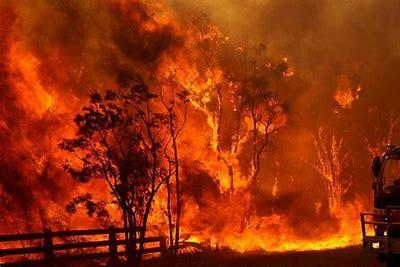smoke: (165, 35, 280, 183), (5, 61, 95, 242), (144, 191, 362, 249)
